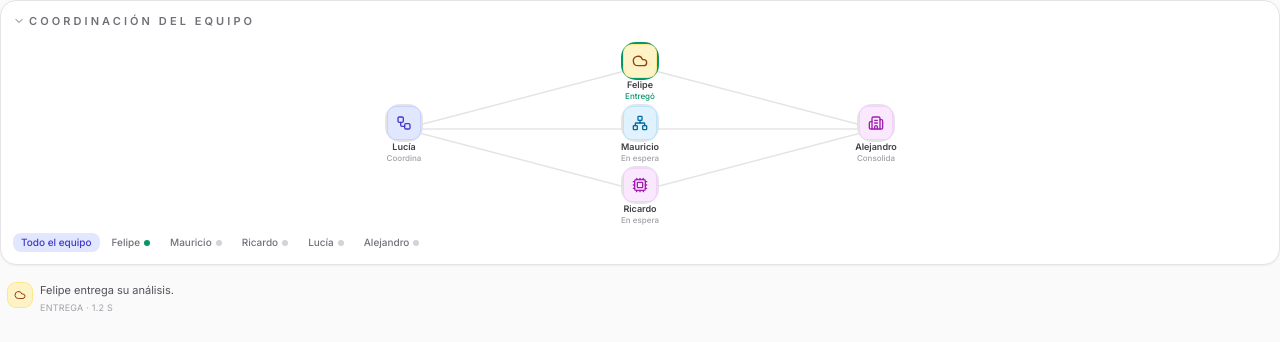
Test: TeamCoordinationPanel — inspection controls › explains an empty filter instead of showing a blank list
Click the button "Mauricio".
click(196, 242)  # box left=162, top=233, right=230, bottom=252
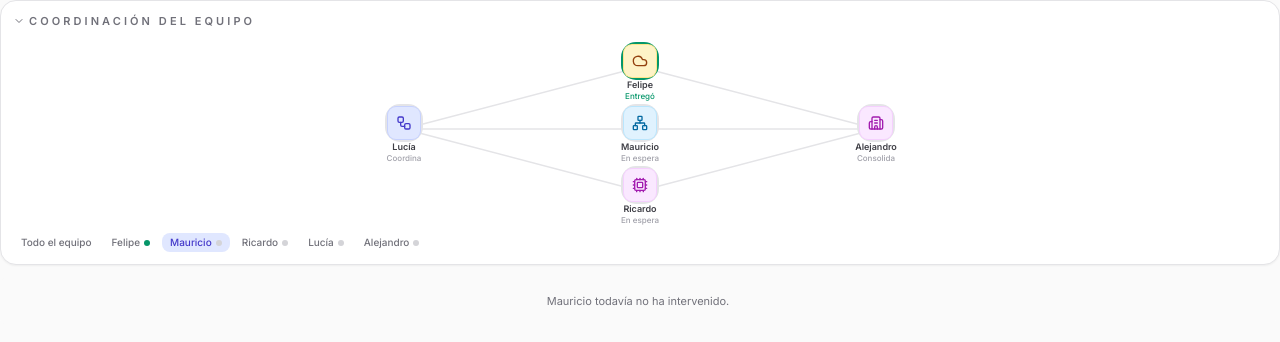
Result: the list item "Mauricio todavía no ha intervenido." is shown at left=0, top=277, right=1276, bottom=325
